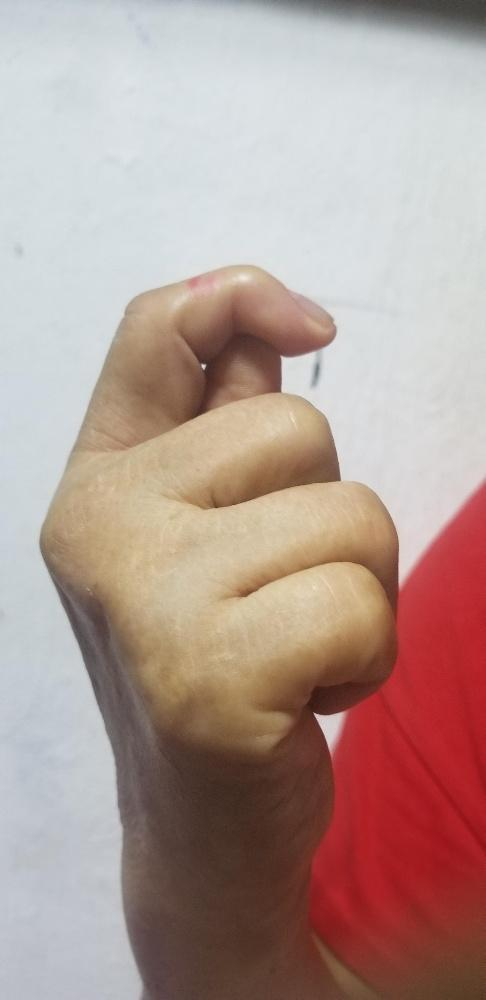t: (36, 264, 404, 864)
